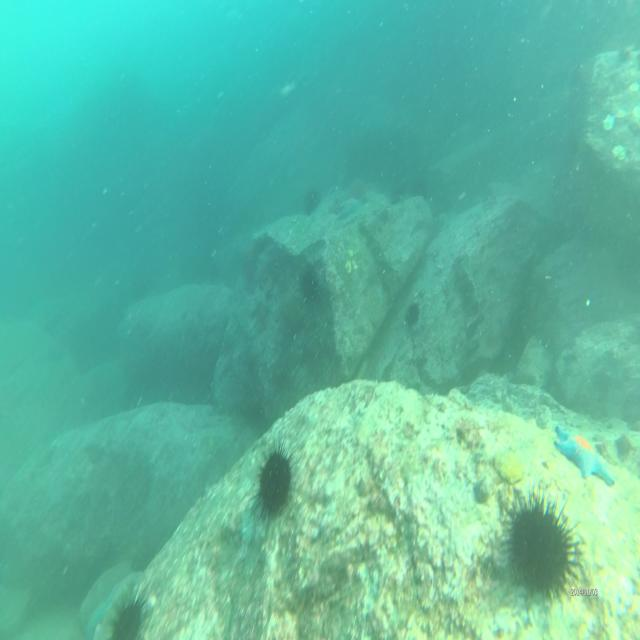echinus: (497, 478, 584, 608), (252, 438, 302, 519), (105, 579, 152, 640), (298, 256, 322, 297), (302, 185, 324, 218), (404, 299, 424, 328)
starfish: (554, 417, 615, 490), (338, 190, 367, 222)
